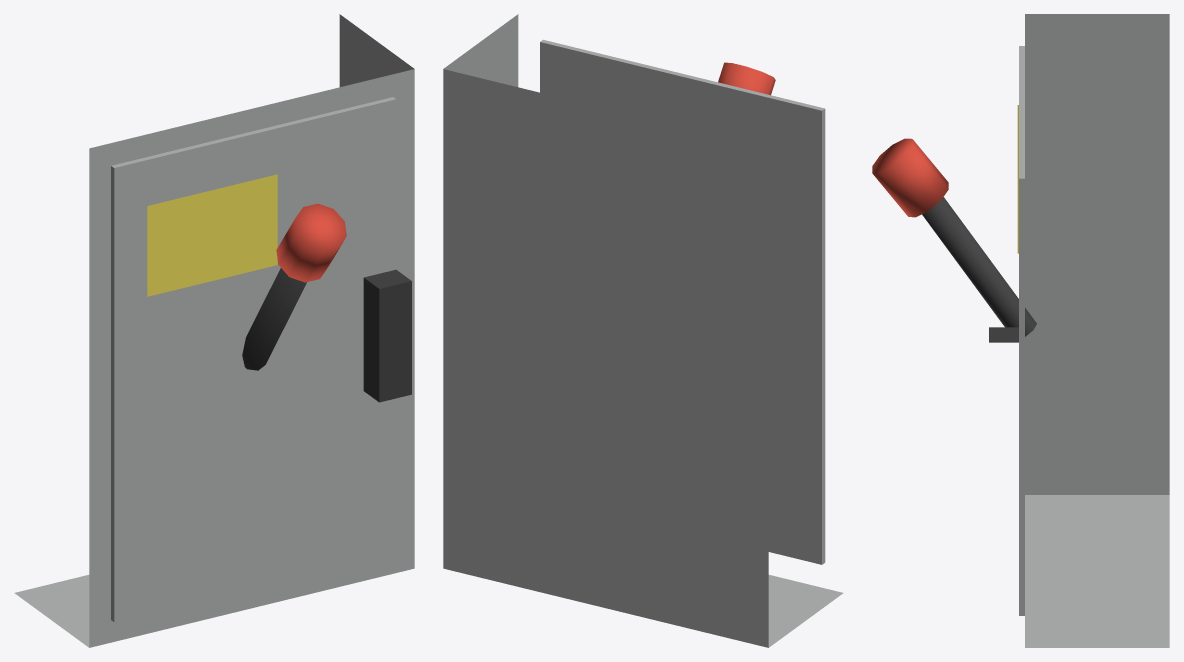
File: breaker.glb
3 renders of one model, left to right at view 1: azimuth 30°, elevation 25°; view 2: azimuth 150°, elevation 25°; view 3: azimuth 270°, elevation 25°, orthographic. The views are drawn at different scales.
Parts seen in each view (by area): view 1: Box, Lever; view 2: Box, Lever; view 3: Box, Lever.
Boxes of the visible parts, x1,y1,x2,y2 form: Box: [14, 14, 414, 647]; Lever: [242, 203, 346, 370]; Box: [443, 14, 843, 647]; Lever: [718, 62, 775, 95]; Box: [989, 14, 1169, 647]; Lever: [872, 138, 1036, 336].
Bounding box in the file's own units: 0.3 × 0.44 × 0.2467.
